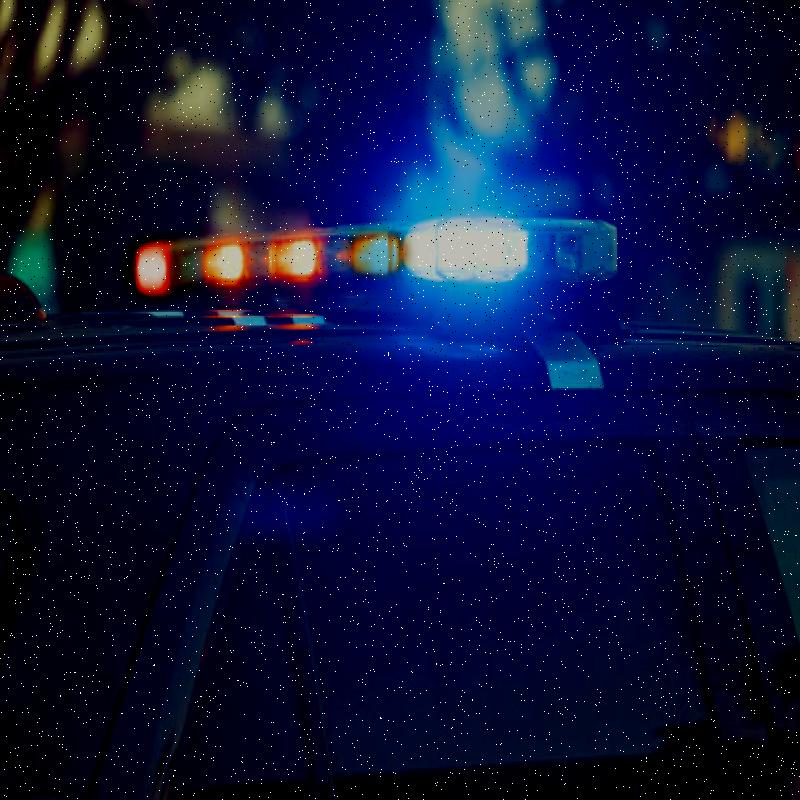AmbulanceSiren: (107, 195, 621, 321)
